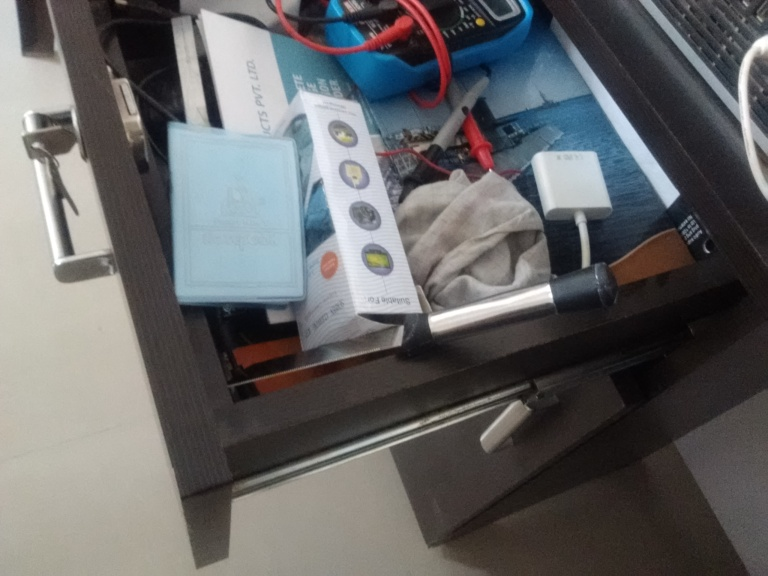knife: (227, 261, 618, 388)
